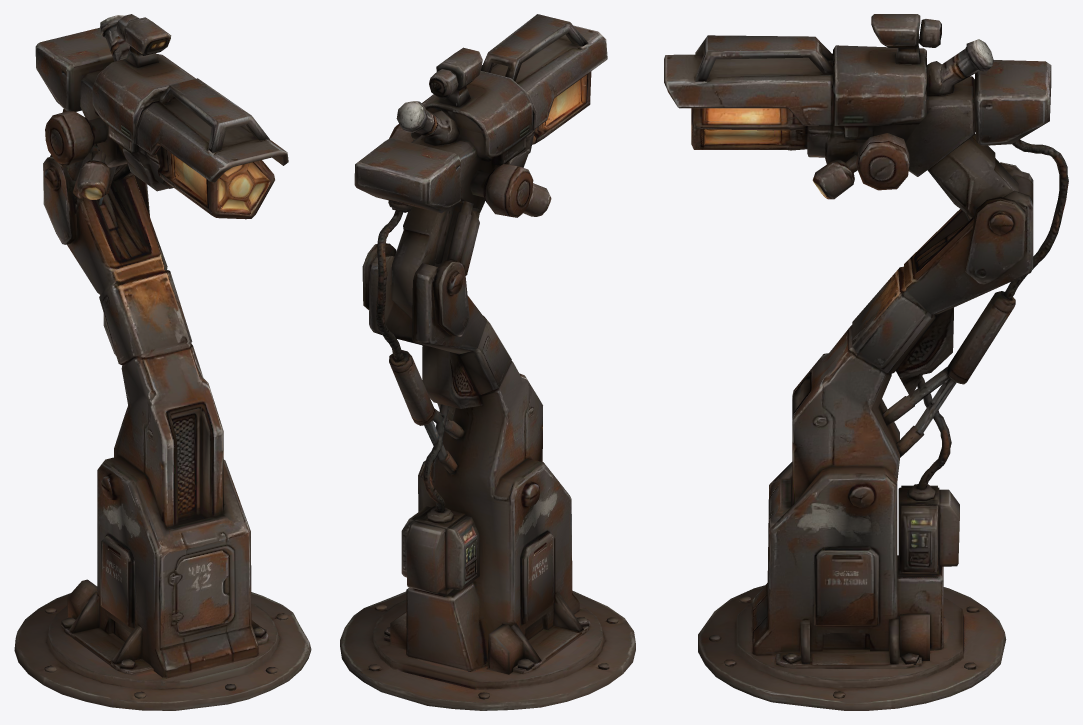
3 renders of one model, left to right at view 1: azimuth 30°, elevation 25°; view 2: azimuth 150°, elevation 25°; view 3: azimuth 270°, elevation 25°, orthographic. The views are drawn at different scales.
Parts seen in each view (by area): view 1: tripo_node_fc1039f0-782e-402b-a6e7-163d4352d9c1; view 2: tripo_node_fc1039f0-782e-402b-a6e7-163d4352d9c1; view 3: tripo_node_fc1039f0-782e-402b-a6e7-163d4352d9c1.
Boxes of the visible parts, bbox=[...] form: tripo_node_fc1039f0-782e-402b-a6e7-163d4352d9c1: bbox=[14, 14, 311, 710]; tripo_node_fc1039f0-782e-402b-a6e7-163d4352d9c1: bbox=[340, 14, 635, 710]; tripo_node_fc1039f0-782e-402b-a6e7-163d4352d9c1: bbox=[664, 14, 1068, 710].
Bounding box in the file's own units: 0.4395 × 0.998 × 0.5801.
Materials: 1 (1 with a texture image).
